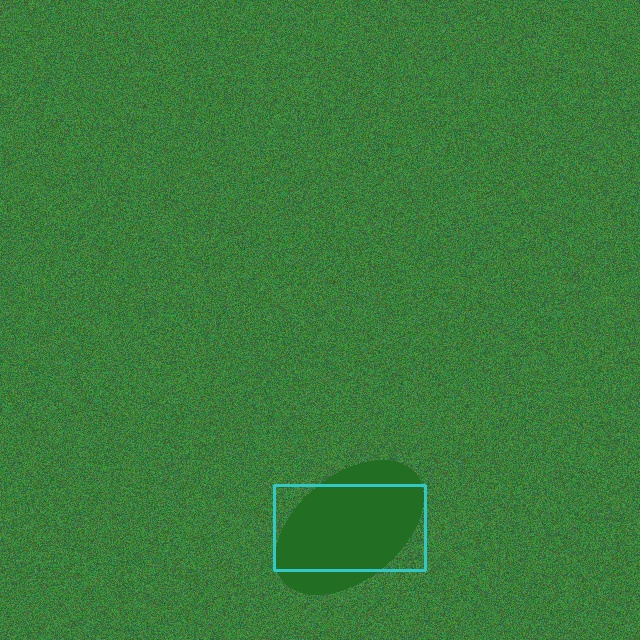army worm: (264, 475, 435, 580)
